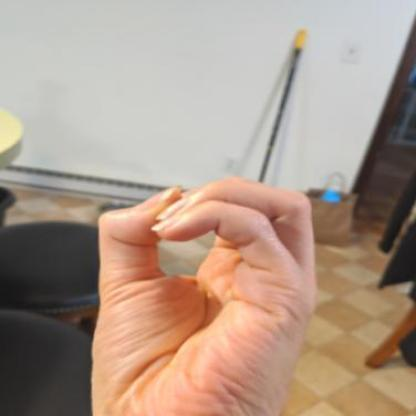O: (64, 166, 332, 415)
